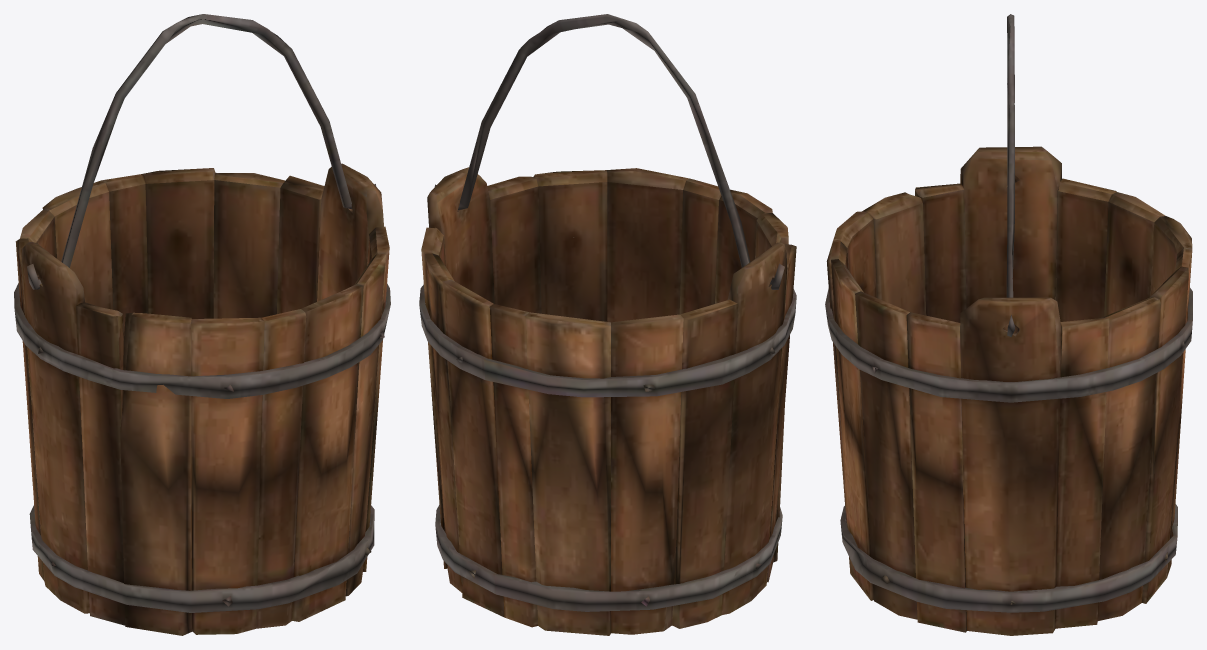
Rendered from cubo.glb.
3 views of the same model, side by side, from view 1: azimuth 30°, elevation 25°; view 2: azimuth 150°, elevation 25°; view 3: azimuth 270°, elevation 25° (orthographic).
Visible parts, largest first — view 1: wooden_bucket_01, wooden_bucket_01_handle; view 2: wooden_bucket_01, wooden_bucket_01_handle; view 3: wooden_bucket_01, wooden_bucket_01_handle.
Boxes of the visible parts, x1=… form: wooden_bucket_01: x1=14, y1=163, x2=390, y2=635; wooden_bucket_01_handle: x1=27, y1=14, x2=376, y2=289; wooden_bucket_01: x1=419, y1=167, x2=796, y2=635; wooden_bucket_01_handle: x1=434, y1=14, x2=784, y2=289; wooden_bucket_01: x1=825, y1=146, x2=1192, y2=635; wooden_bucket_01_handle: x1=1006, y1=14, x2=1015, y2=336.
Size of the model in its own units: 0.3647 by 0.5493 by 0.338.
Materials: 1 (1 with a texture image).
